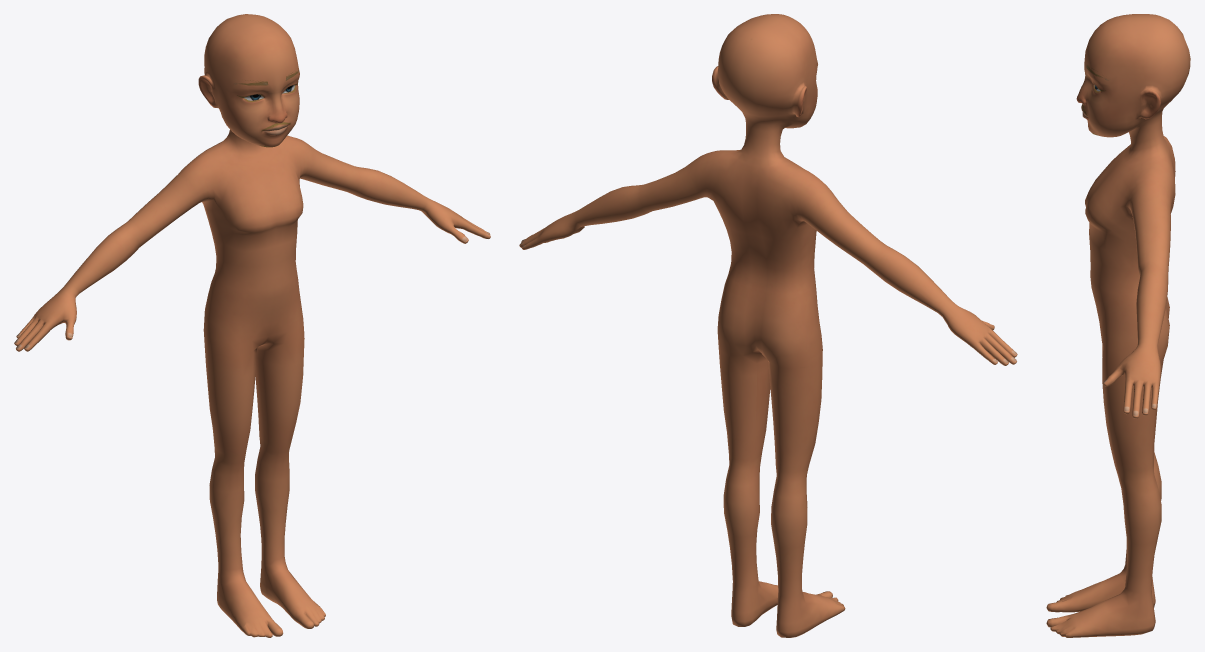
The model's file is frame_0100.glb.
3 views of the same model, side by side, from view 1: azimuth 30°, elevation 25°; view 2: azimuth 150°, elevation 25°; view 3: azimuth 270°, elevation 25° (orthographic). The views are drawn at different scales.
Parts seen in each view (by area): view 1: frame_0100_head_geo; view 2: frame_0100_head_geo; view 3: frame_0100_head_geo.
Boxes of the visible parts, left/top/right/bottom form: frame_0100_head_geo: left=14, top=14, right=490, bottom=637; frame_0100_head_geo: left=519, top=14, right=1017, bottom=637; frame_0100_head_geo: left=1046, top=14, right=1190, bottom=637.
Bounding box in the file's own units: 1.28 × 1.5 × 0.3253.
Materials: 3 (3 with a texture image).
